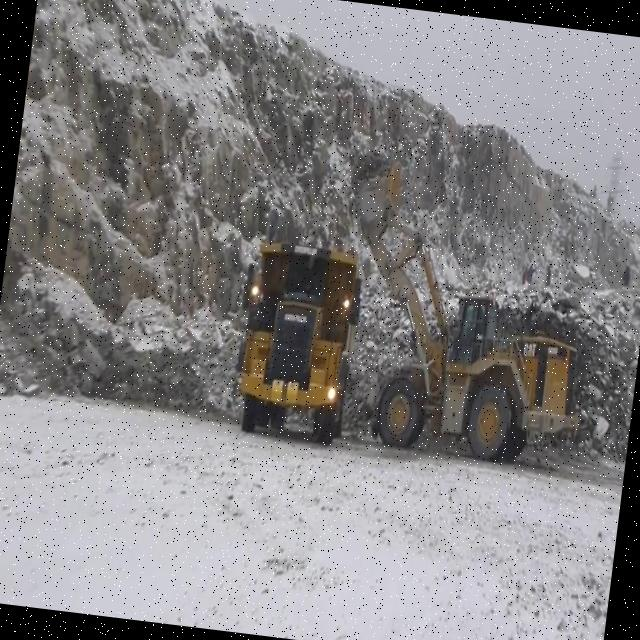Dump Truck: (220, 234, 370, 450)
Loader: (314, 144, 612, 472)
